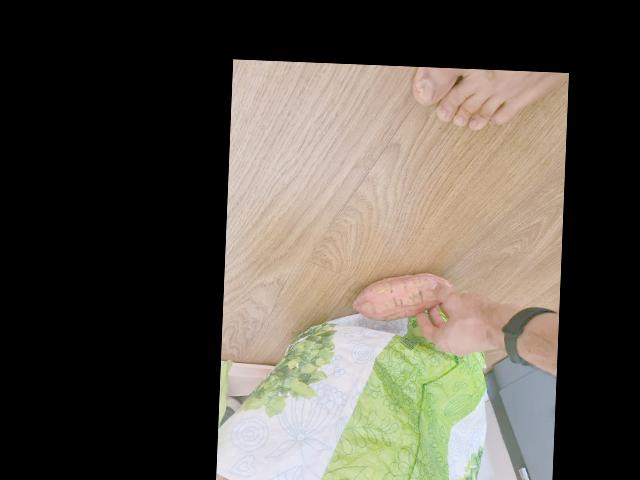sweet_potato: (349, 269, 453, 324)
